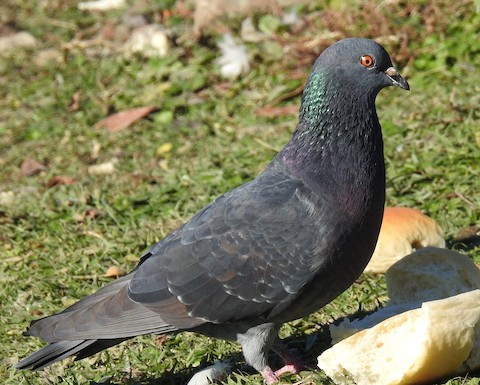pigeon: (11, 37, 417, 376)
